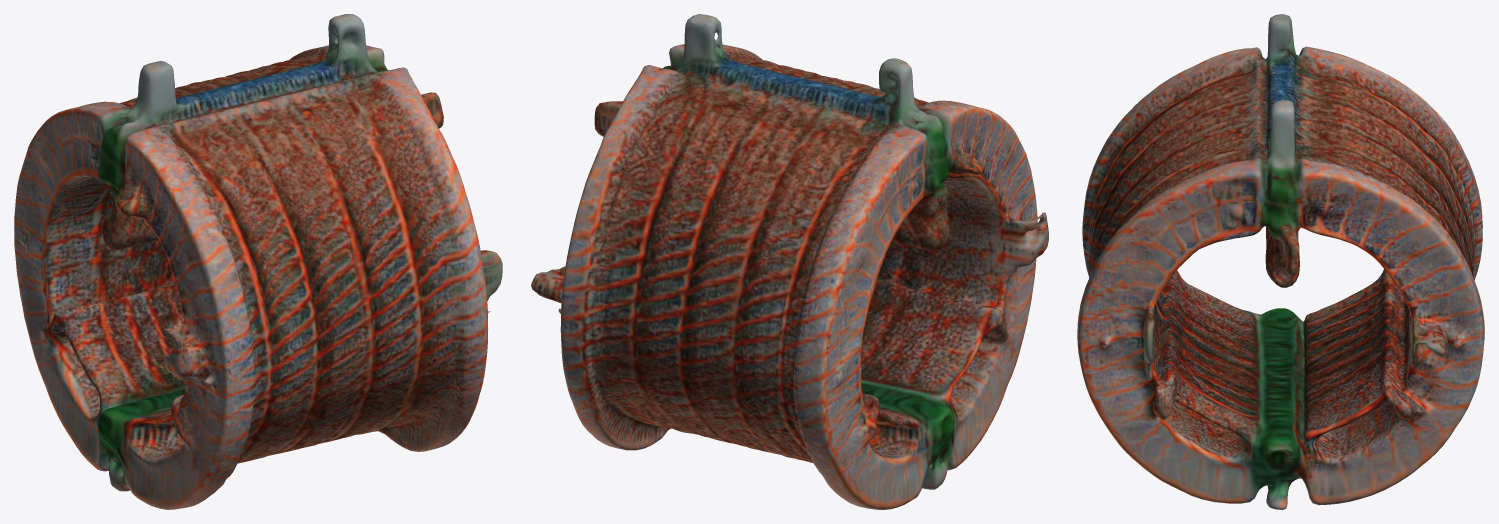
Rendered from bobina2.glb.
The picture shows the model from 3 angles, left to right: view 1: azimuth 30°, elevation 25°; view 2: azimuth 150°, elevation 25°; view 3: azimuth 270°, elevation 25°; orthographic projection. The views are drawn at different scales.
Parts seen in each view (by area): view 1: geometry_0; view 2: geometry_0; view 3: geometry_0.
Boxes of the visible parts, x1,y1,x2,y2 form: geometry_0: [14, 14, 502, 509]; geometry_0: [531, 14, 1048, 509]; geometry_0: [1077, 14, 1484, 509].
Bounding box in the file's own units: 0.4545 × 0.5022 × 0.4788.
1 material, 1 textured.
